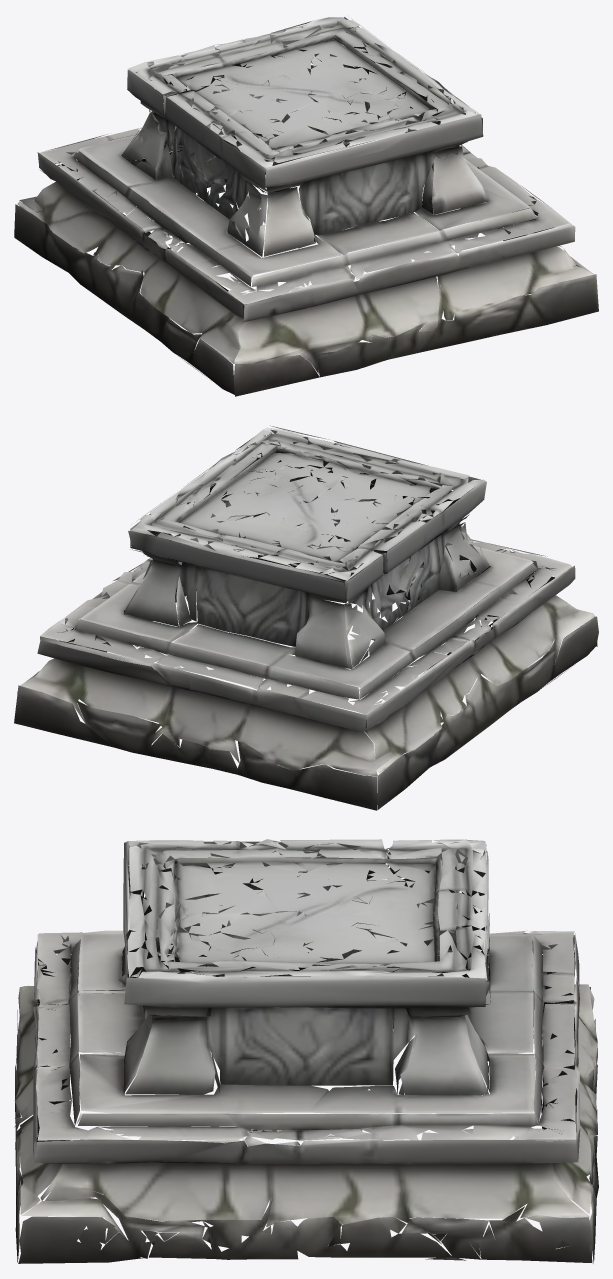
Rendered from lan_broken_processional_dais.glb.
3 views of the same model, one above another, from view 1: azimuth 30°, elevation 25°; view 2: azimuth 150°, elevation 25°; view 3: azimuth 270°, elevation 25° (orthographic). The views are drawn at different scales.
Parts seen in each view (by area): view 1: MetricPlacement; view 2: MetricPlacement; view 3: MetricPlacement.
Part boxes in pixels (box(x1,y1,x2,y2)): MetricPlacement: box(14, 17, 598, 396); MetricPlacement: box(14, 425, 598, 810); MetricPlacement: box(14, 839, 598, 1263).
Bounding box in the file's own units: 1.11 × 0.55 × 1.18.
Materials: 1 (1 with a texture image).
